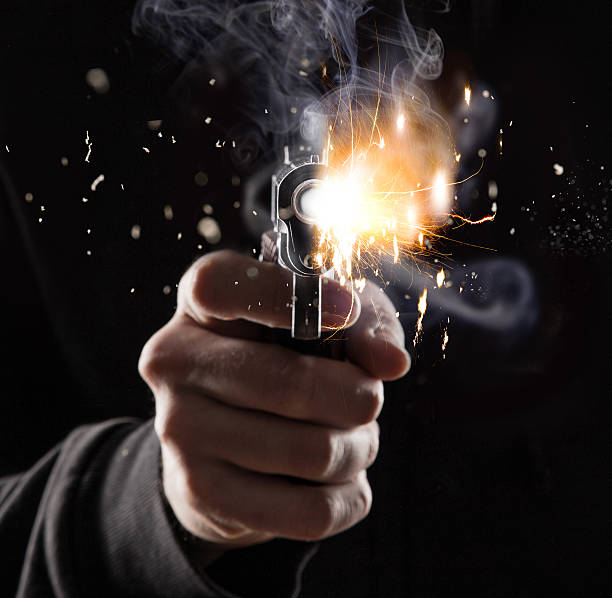gun: (270, 151, 351, 341)
